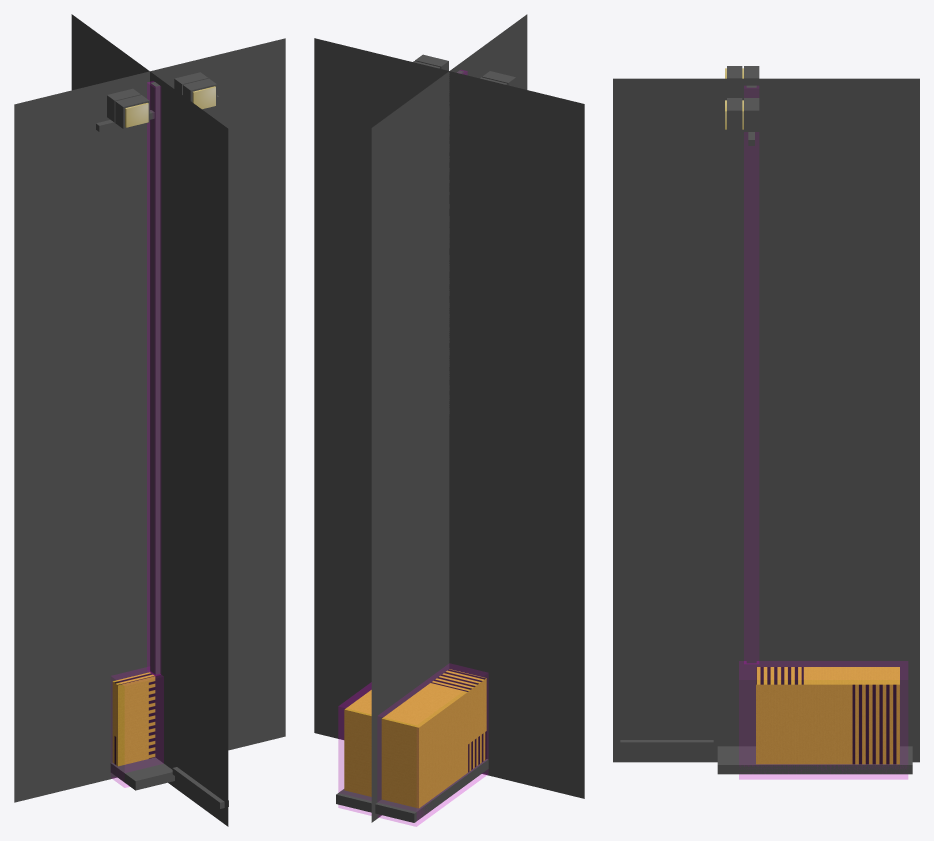
Rendered from lighttower_yellow_raised.dae.
3 views of the same model, side by side, from view 1: azimuth 30°, elevation 25°; view 2: azimuth 150°, elevation 25°; view 3: azimuth 270°, elevation 25° (orthographic). The views are drawn at different scales.
Visible parts, largest first — view 1: lighttower_yellow_raised_a50, lighttower_yellow_raised_a800, Colmesh_mast-1, Colmesh_body-1, lighttower_yellow_raised_a200; view 2: lighttower_yellow_raised_a50, Colmesh_body-1, lighttower_yellow_raised_a800, lighttower_yellow_raised_a200; view 3: lighttower_yellow_raised_a50, lighttower_yellow_raised_a800, Colmesh_body-1, lighttower_yellow_raised_a200, Colmesh_mast-1.
Boxes of the visible parts, x1,y1,x2,y2 form: lighttower_yellow_raised_a50: [14, 14, 285, 826]; lighttower_yellow_raised_a800: [96, 72, 228, 808]; Colmesh_mast-1: [147, 81, 160, 675]; Colmesh_body-1: [111, 668, 163, 787]; lighttower_yellow_raised_a200: [107, 76, 216, 765]; lighttower_yellow_raised_a50: [314, 14, 584, 822]; Colmesh_body-1: [338, 664, 487, 826]; lighttower_yellow_raised_a800: [336, 54, 515, 822]; lighttower_yellow_raised_a200: [344, 55, 515, 808]; lighttower_yellow_raised_a50: [613, 78, 919, 762]; lighttower_yellow_raised_a800: [620, 66, 912, 774]; Colmesh_body-1: [739, 661, 907, 779]; lighttower_yellow_raised_a200: [727, 66, 899, 764]; Colmesh_mast-1: [744, 86, 758, 663].
Size of the model in its own units: 3.62 by 3.62 by 8.9.
4 materials, 2 textured.
